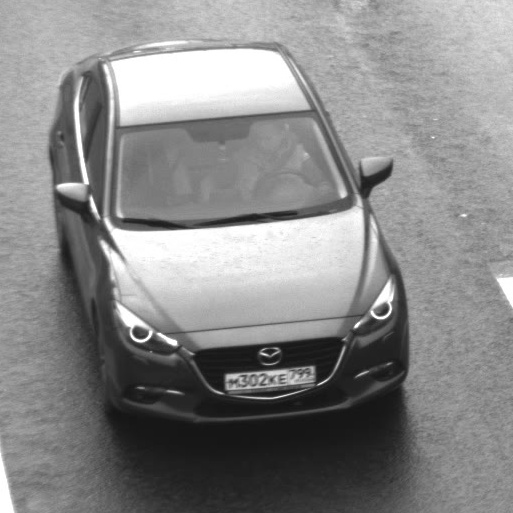plate: (216, 355, 325, 397)
